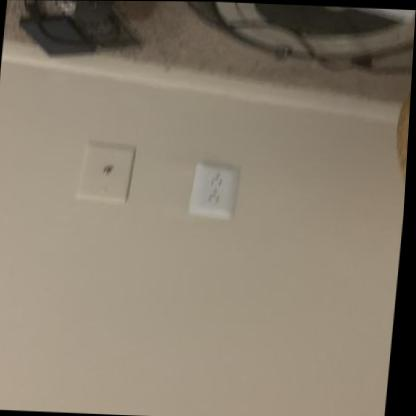OUTLET: (191, 163, 240, 220)
